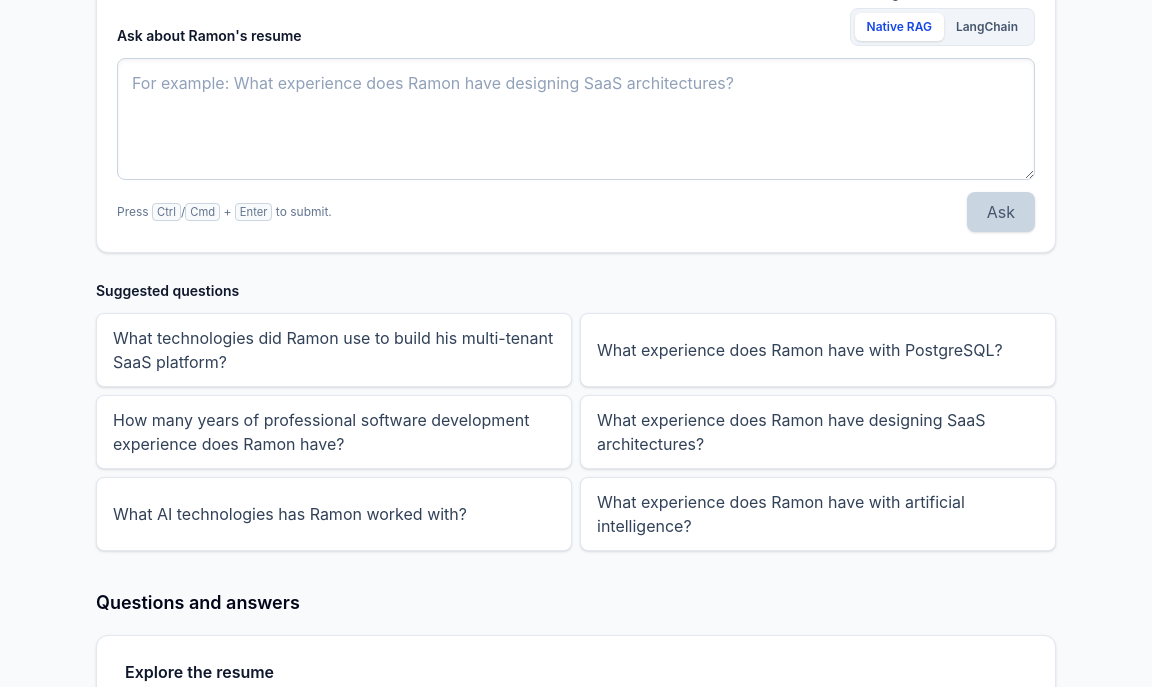
Test: AI Resume application › prevents duplicate requests while one is active
(page scrolled)
Click the button "What experience does Ramon have with PostgreSQL?" at {"x": 818, "y": 350}, box [580, 313, 1056, 387]
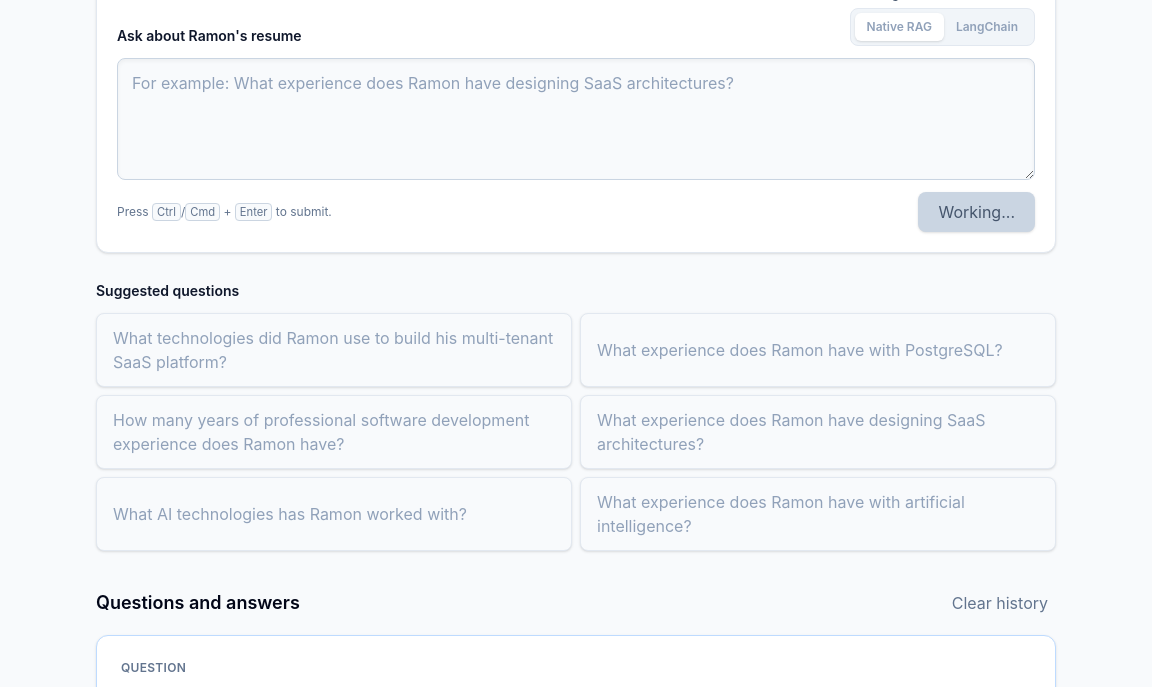
Click the button "What experience does Ramon have with PostgreSQL?" at {"x": 818, "y": 350}, box [580, 313, 1056, 387]
(page scrolled)
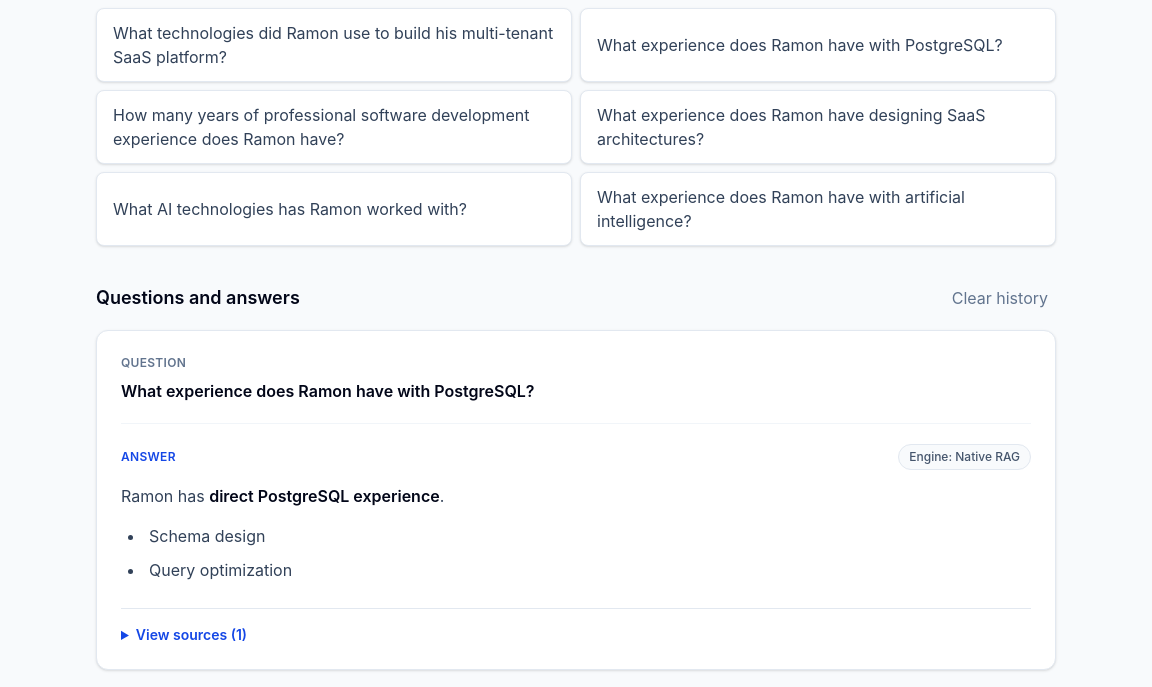
expect the text "direct PostgreSQL experience" is shown: met, box [209, 486, 440, 506]
